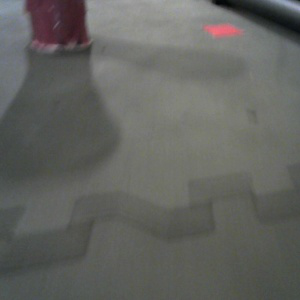Middle: (23, 1, 95, 56)
